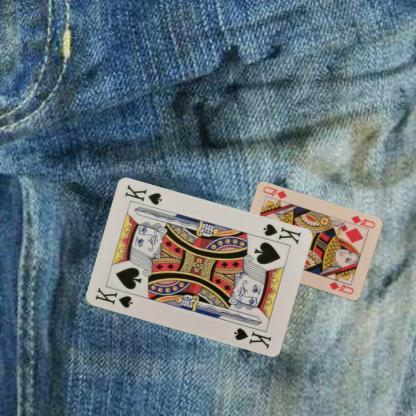Ks: (92, 285, 134, 310), (260, 221, 302, 246)
Qd: (345, 213, 376, 231)
